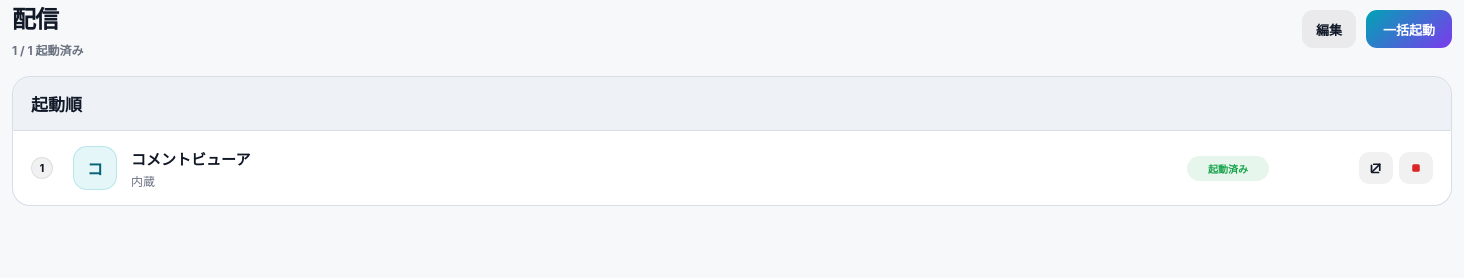
Test: 061b: メイン画面・内蔵コメントビューアの「停止」 › ⚠⚠ 出力窓が開いていれば「取得が続いている」ことを伝える（§1・停止したと偽らない）
Step 1. Click the button titled "停止" → (1416, 168), box [1399,152,1433,184]
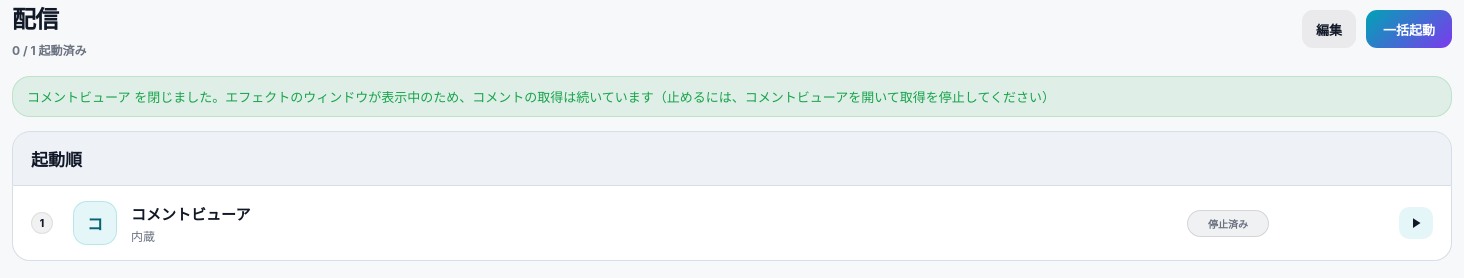
Expected: the text "コメントの取得は続いています" is shown, [27,89,1055,105]
